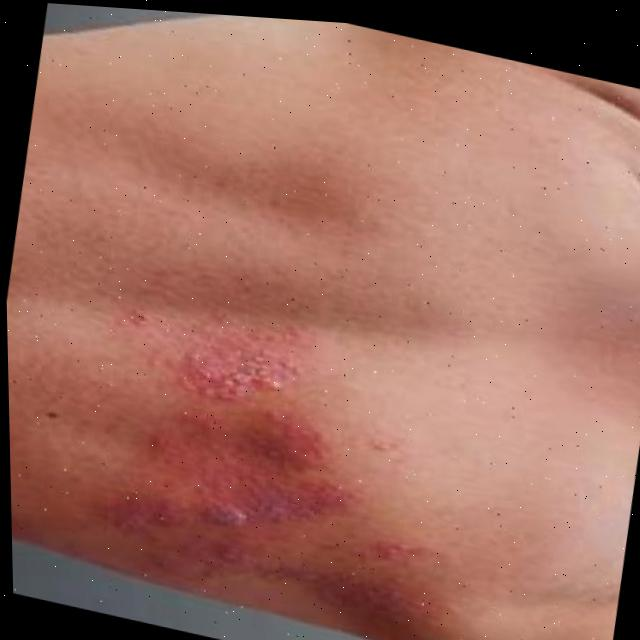Shingles: (88, 288, 463, 640)
